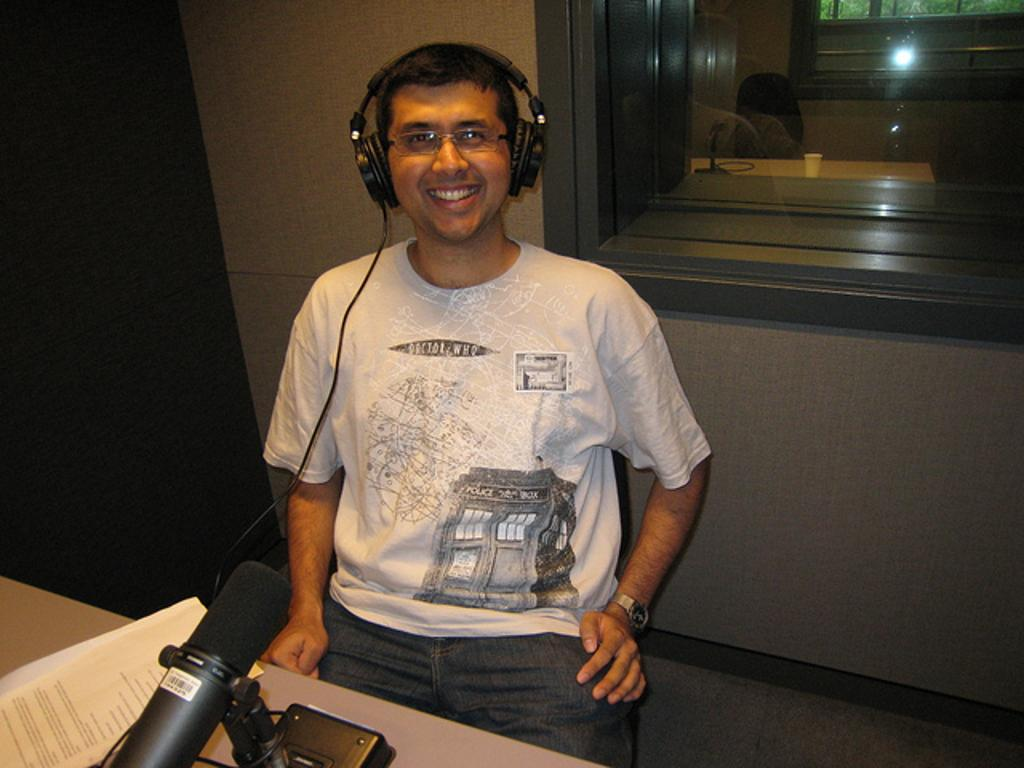face: (390, 76, 506, 238)
